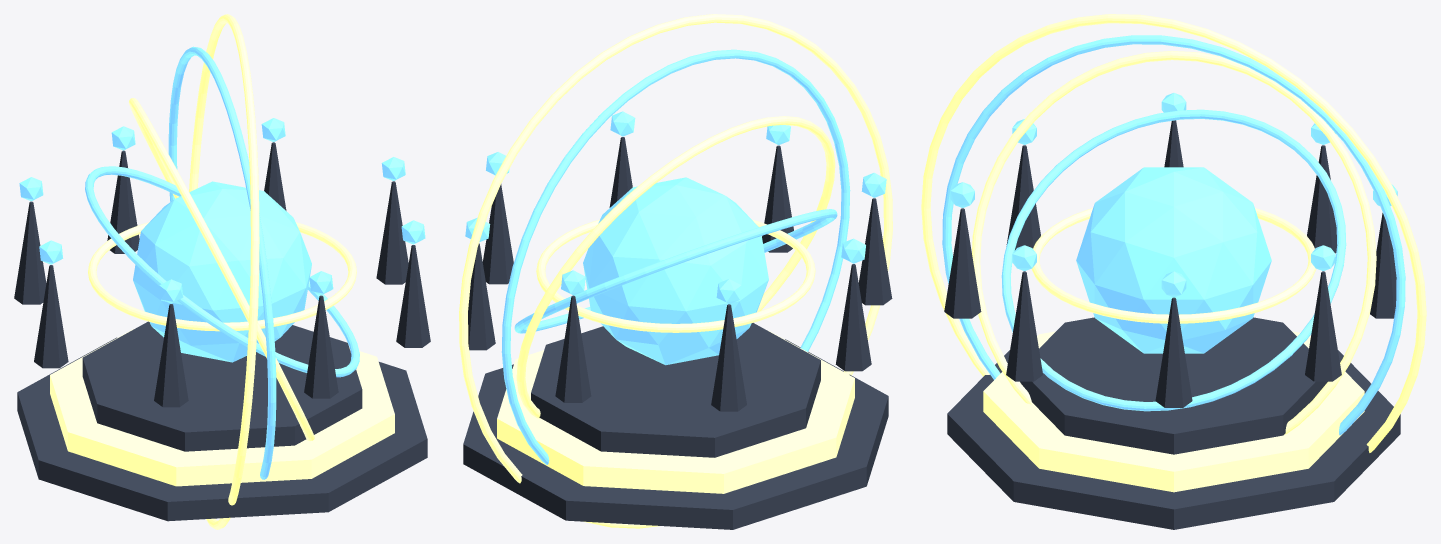
The model's file is gpu-blender-v26.glb.
3 renders of one model, left to right at view 1: azimuth 30°, elevation 25°; view 2: azimuth 150°, elevation 25°; view 3: azimuth 270°, elevation 25°, orthographic. The views are drawn at different scales.
Visible parts, largest first — view 1: Cylinder.002, Cylinder, SovereignCore_zoth-scene-foundry, Cylinder.001, Torus.004, Torus.003, Torus.001, Torus.002, Torus, Cone.005, Cone.004, Cone.006 (+5 smaller); view 2: Cylinder.002, SovereignCore_zoth-scene-foundry, Cylinder, Cylinder.001, Torus.004, Torus.003, Torus.002, Torus.001, Torus, Cone.004, Cone.003, Cone.002 (+5 smaller); view 3: SovereignCore_zoth-scene-foundry, Cylinder.002, Cylinder, Cylinder.001, Torus.004, Torus.003, Torus.002, Torus.001, Torus, Cone.006, Cone.001, Cone.007 (+5 smaller).
Boxes of the visible parts, x1,y1,x2,y2 form: Cylinder.002: (82, 321, 362, 451); Cylinder: (17, 337, 427, 521); SovereignCore_zoth-scene-foundry: (133, 181, 311, 362); Cylinder.001: (50, 329, 394, 486); Torus.004: (189, 14, 259, 529); Torus.003: (168, 46, 276, 479); Torus.001: (85, 166, 359, 377); Torus.002: (129, 98, 314, 440); Torus: (88, 222, 356, 331); Cone.005: (154, 304, 188, 407); Cone.004: (34, 265, 68, 368); Cone.006: (304, 295, 338, 398); Cylinder.002: (531, 323, 820, 457); SovereignCore_zoth-scene-foundry: (583, 177, 768, 365); Cylinder: (463, 339, 888, 529); Cylinder.001: (497, 330, 854, 493); Torus.004: (459, 14, 892, 528); Torus.003: (501, 49, 850, 464); Torus.002: (516, 116, 835, 418); Torus.001: (514, 209, 837, 333); Torus: (536, 219, 815, 332); Cone.004: (835, 264, 871, 371); Cone.003: (711, 304, 746, 411); Cone.002: (555, 295, 591, 402); SovereignCore_zoth-scene-foundry: (1076, 167, 1271, 353); Cylinder.002: (1020, 317, 1327, 454); Cylinder: (947, 350, 1400, 529); Cylinder.001: (983, 331, 1364, 492); Torus.004: (921, 14, 1426, 452); Torus.003: (942, 35, 1405, 435); Torus.002: (972, 50, 1376, 434); Torus.001: (1001, 109, 1346, 411); Torus: (1031, 208, 1316, 323); Cone.006: (944, 208, 981, 318); Cone.001: (1305, 271, 1341, 381); Cone.007: (1006, 271, 1042, 381).
Size of the model in its own units: 4.41 by 5.33 by 4.9.
